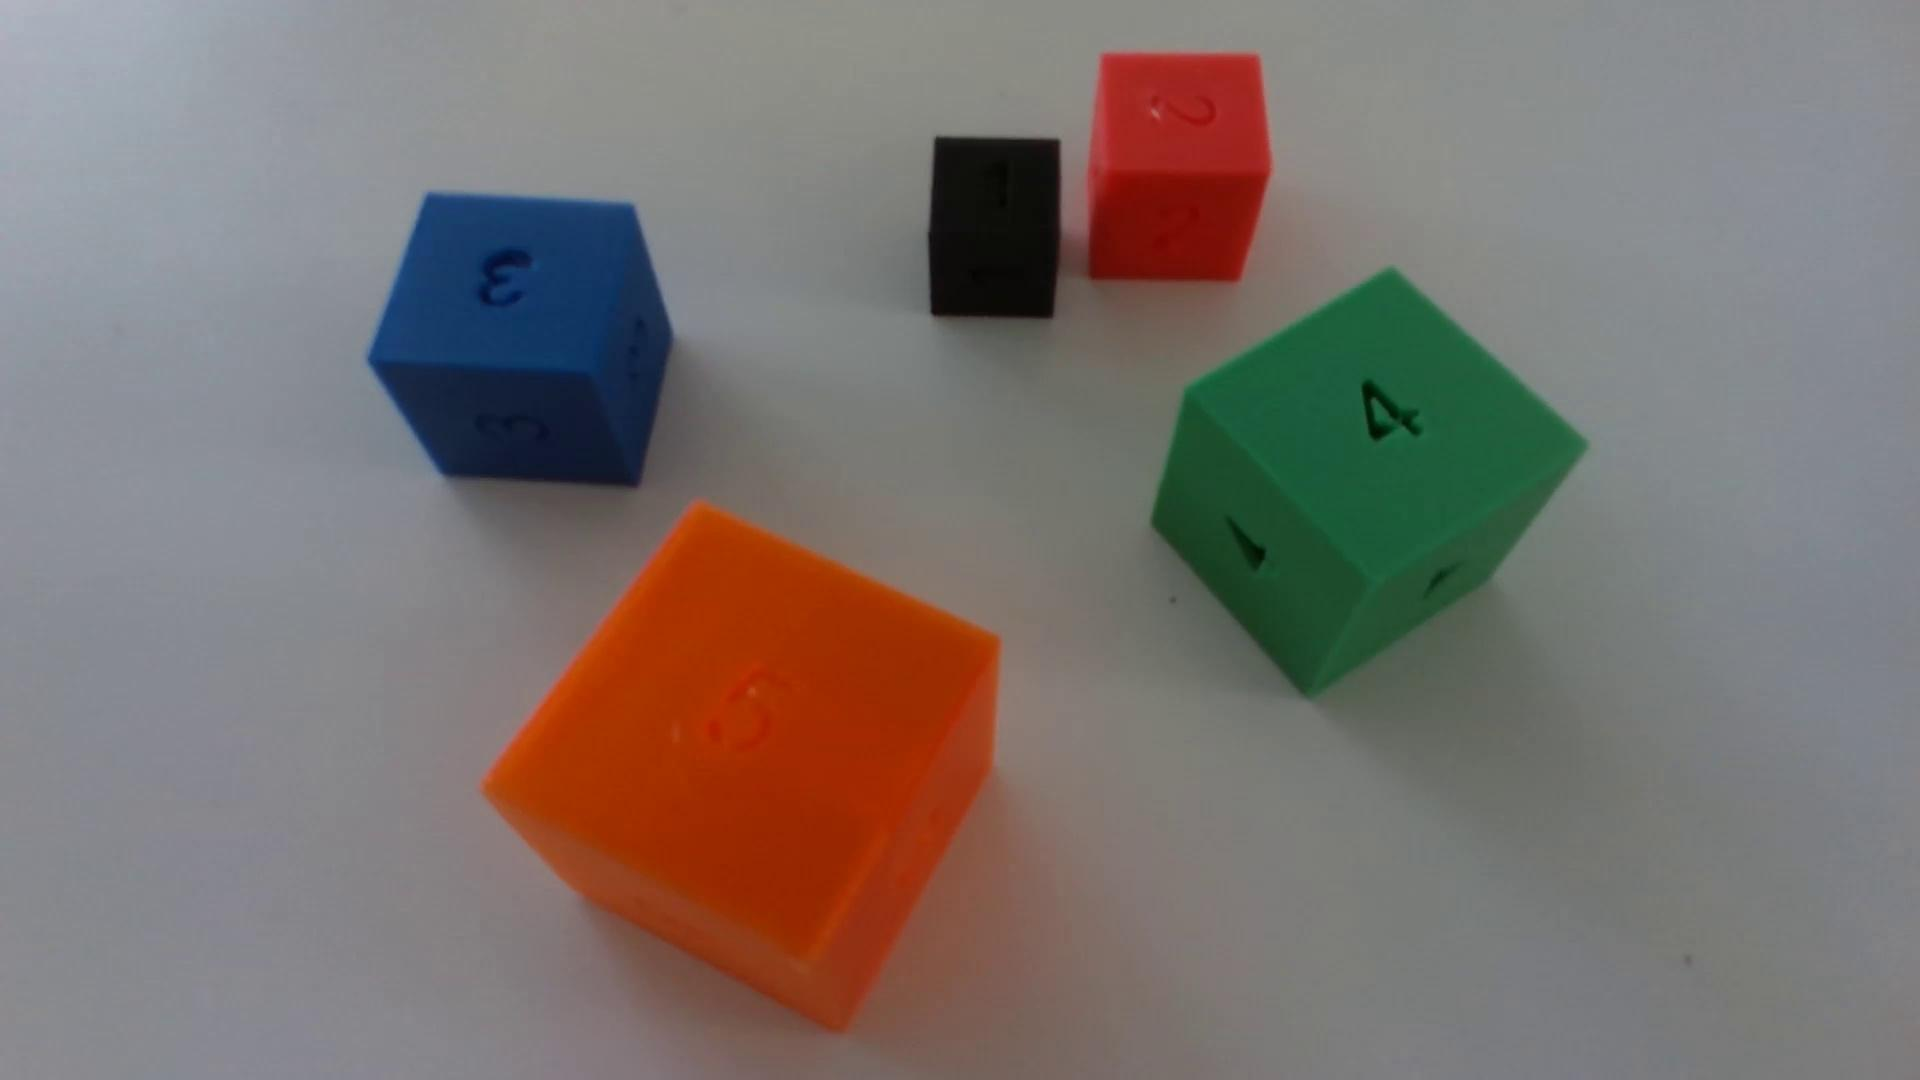black: (927, 137, 1062, 320)
blue: (368, 194, 673, 488)
green: (1151, 272, 1585, 695)
orange: (483, 505, 1000, 1030)
red: (1087, 53, 1273, 284)
